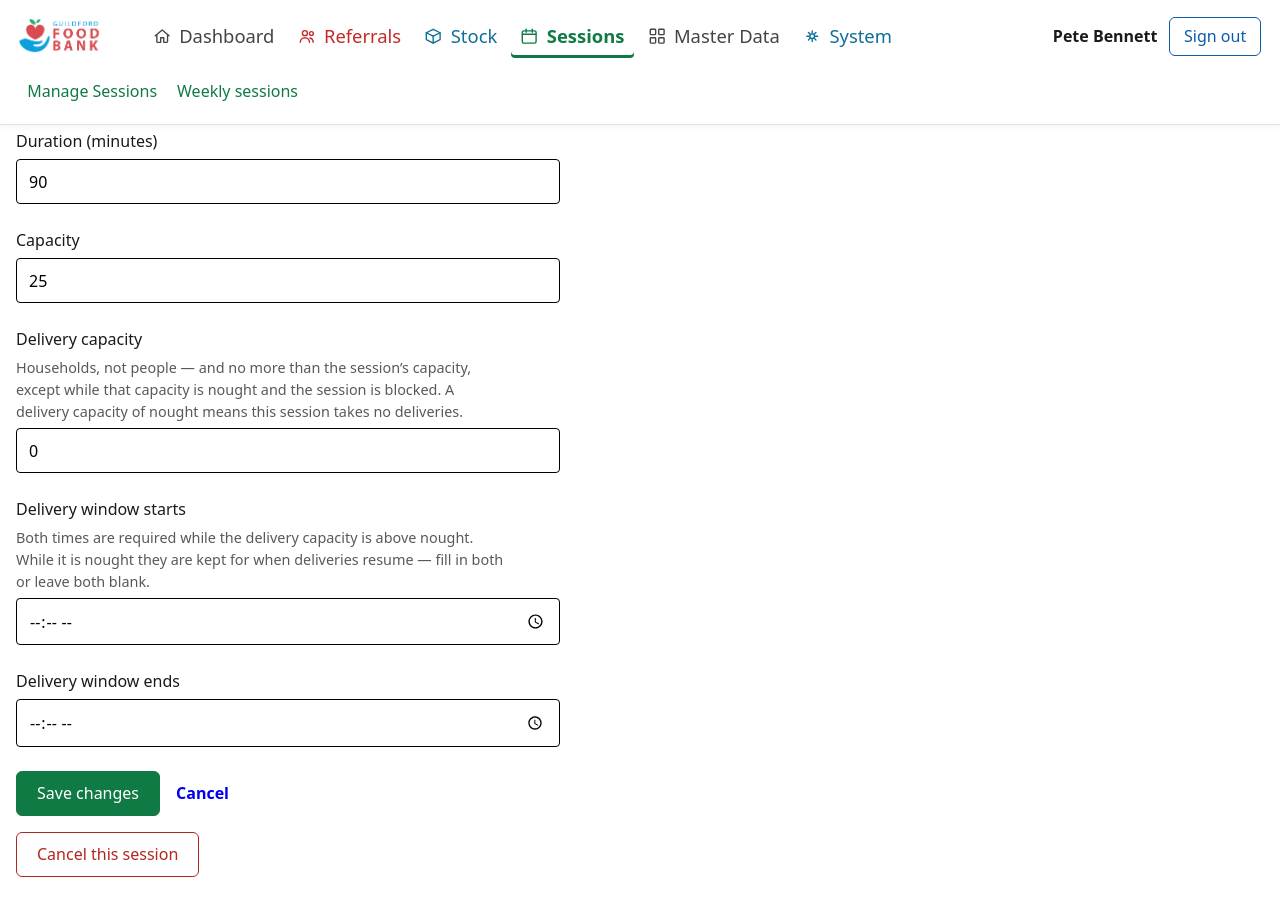
Test case: the session detail screen › sets a delivery window on amend, once the session is given delivery places
This screenshot has width=1280, height=900.
(page scrolled)
Replace the text in the field labelled "Delivery capacity" with "8" at {"x": 288, "y": 451}, box [16,428,560,473]
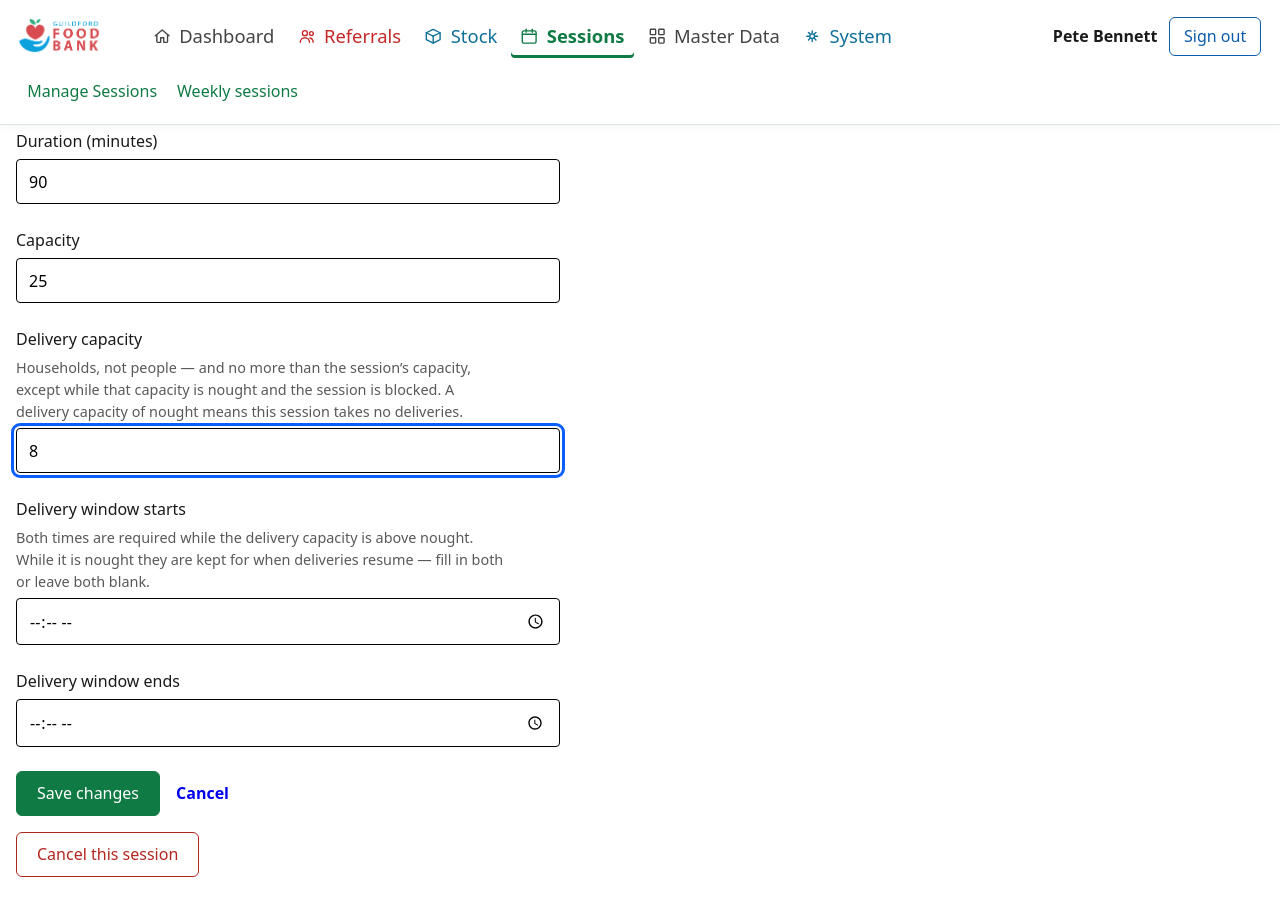
Type "09:00" into the time field labelled "Delivery window starts" at {"x": 288, "y": 622}, box [16,598,560,645]
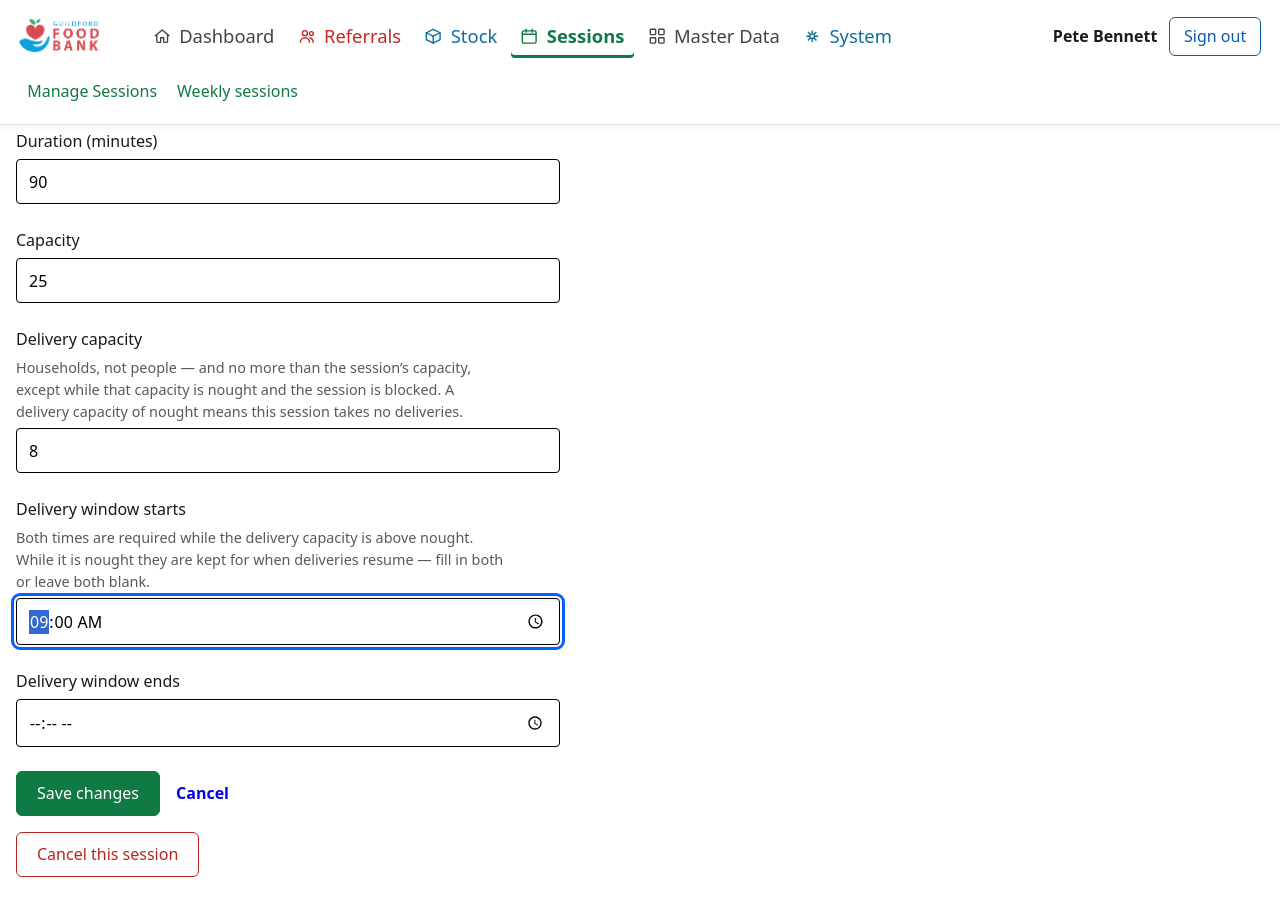
Type "11:00" into the time field labelled "Delivery window ends" at {"x": 288, "y": 723}, box [16,699,560,746]
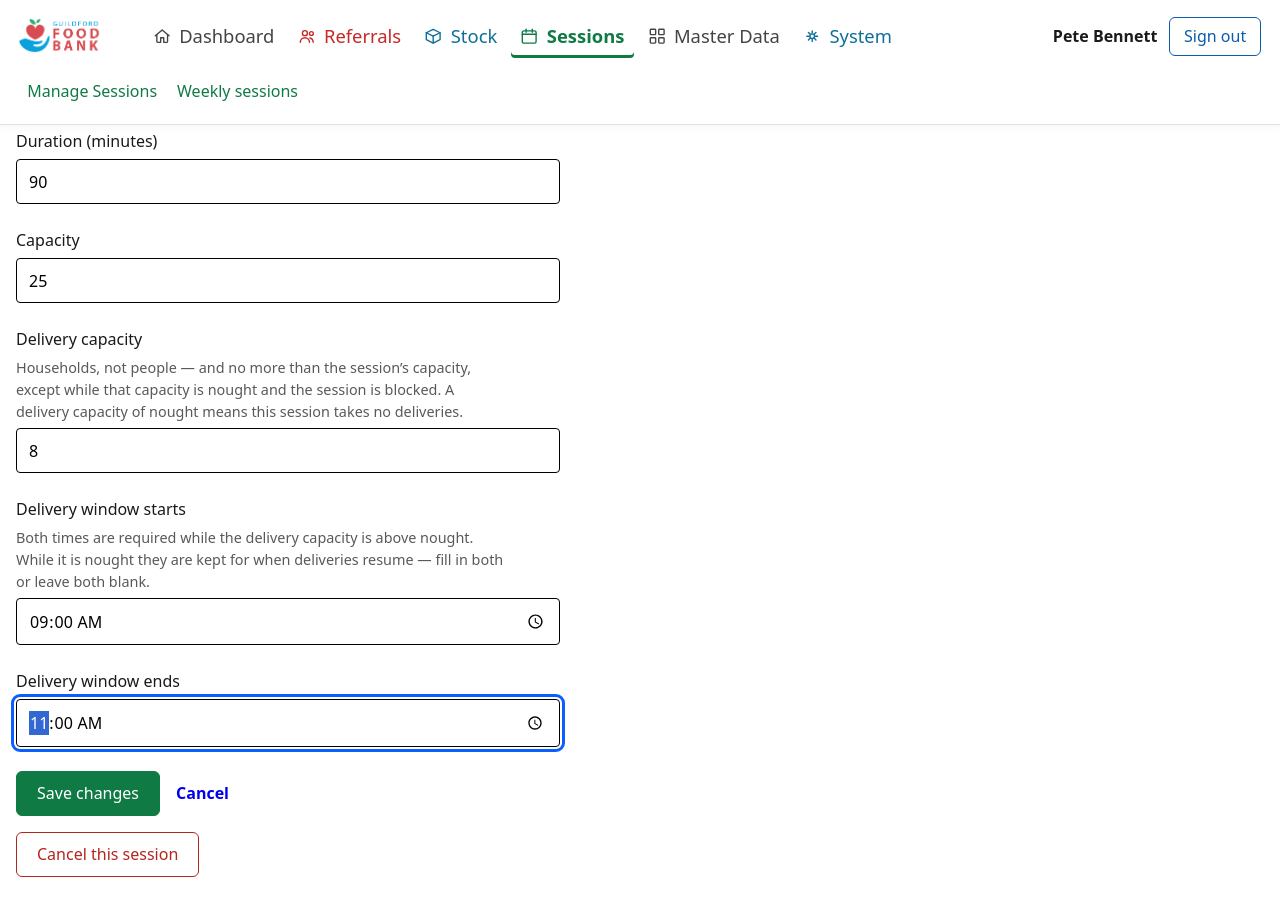
Click the button "Save changes" at {"x": 88, "y": 793}, box [16,770,160,816]
(page scrolled)
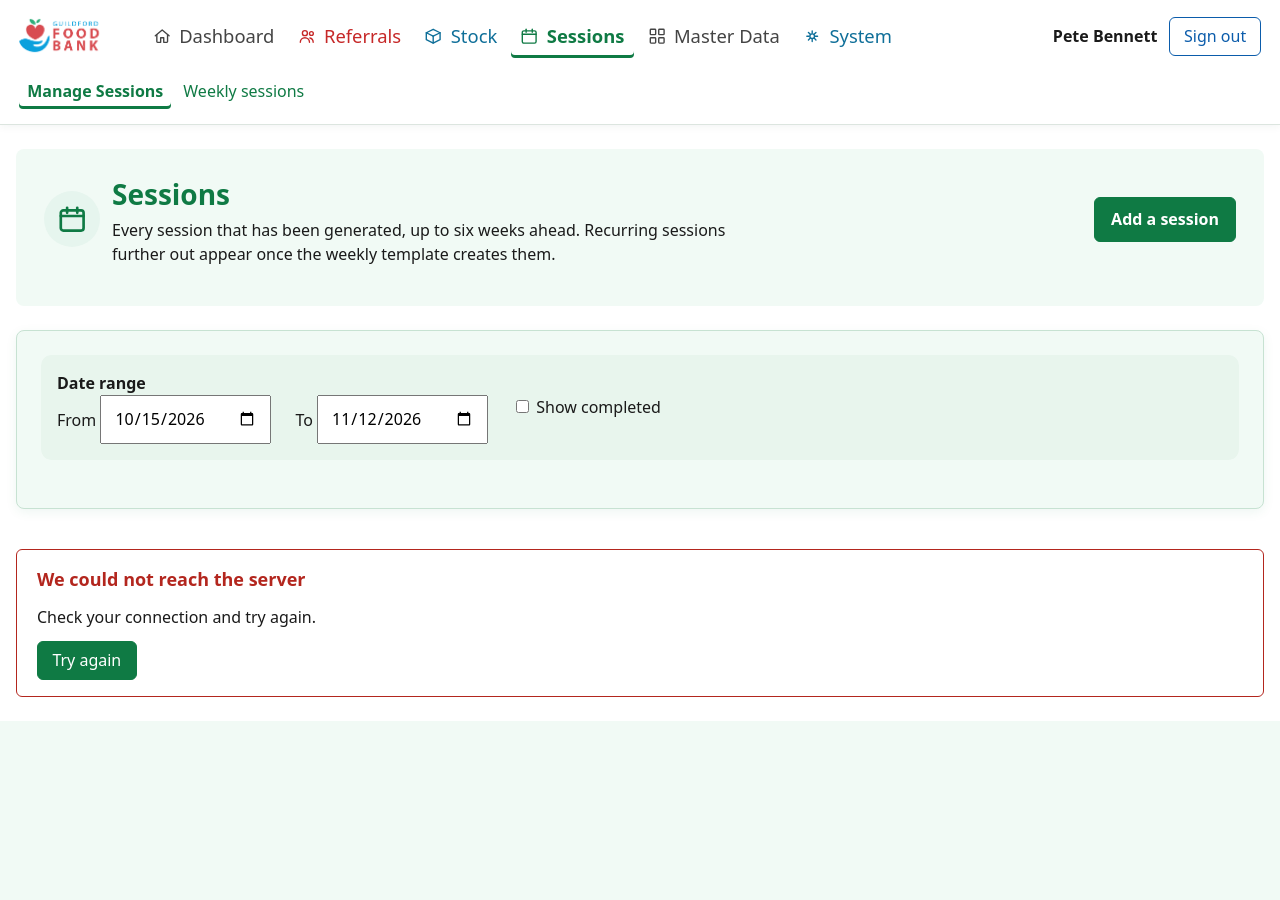
Expected: the heading "Sessions" is shown, [112,175,230,213]
